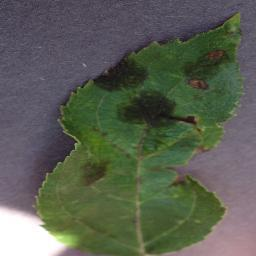apple healthy: (33, 10, 246, 255)
